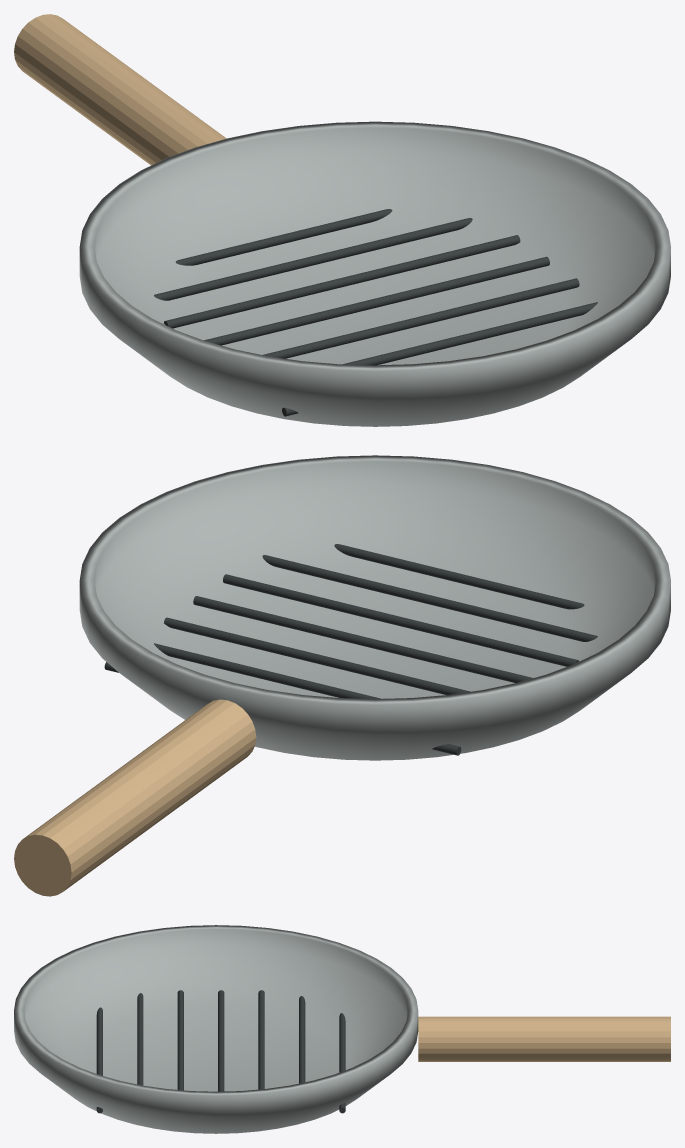
The model's file is coffee-roastery-and-cupping-room-coffee-roastery-and-c-f1f43513__32204.glb.
The picture shows the model from 3 angles, top to bottom: view 1: azimuth 30°, elevation 25°; view 2: azimuth 150°, elevation 25°; view 3: azimuth 270°, elevation 25°; orthographic projection. The views are drawn at different scales.
Parts seen in each view (by area): view 1: coffee-roastery-and-cupping-room-sample-cooling-sieve; view 2: coffee-roastery-and-cupping-room-sample-cooling-sieve; view 3: coffee-roastery-and-cupping-room-sample-cooling-sieve.
Part boxes in pixels (left/top/right/bottom): coffee-roastery-and-cupping-room-sample-cooling-sieve: left=14, top=14, right=670, bottom=426; coffee-roastery-and-cupping-room-sample-cooling-sieve: left=14, top=455, right=670, bottom=896; coffee-roastery-and-cupping-room-sample-cooling-sieve: left=14, top=925, right=670, bottom=1133.
Size of the model in its own units: 0.32 by 0.06 by 0.52.
